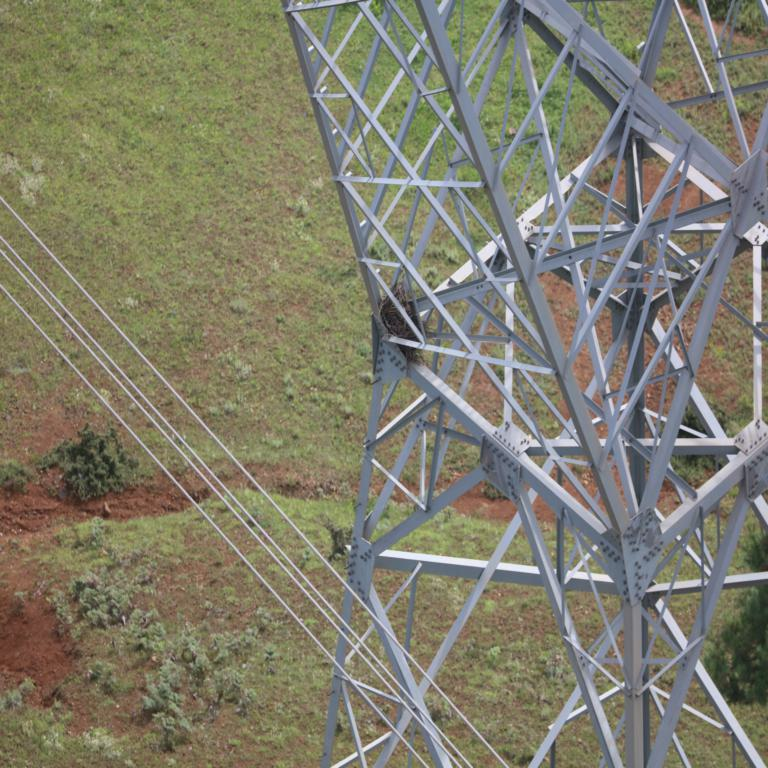nest: (381, 289, 429, 373)
